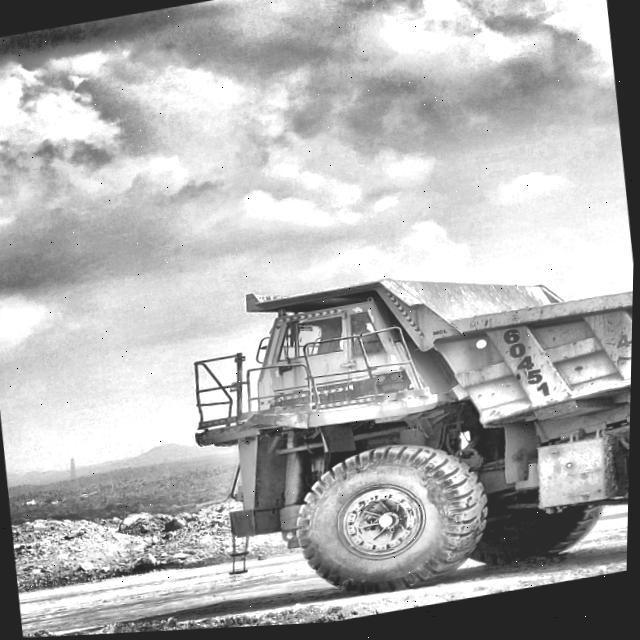dump_truck: (196, 286, 634, 599)
